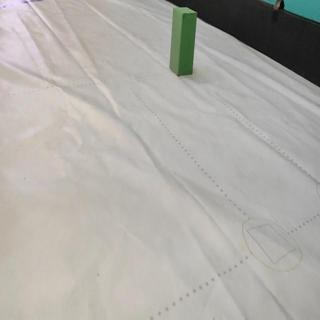greenbox: (167, 7, 199, 77)
